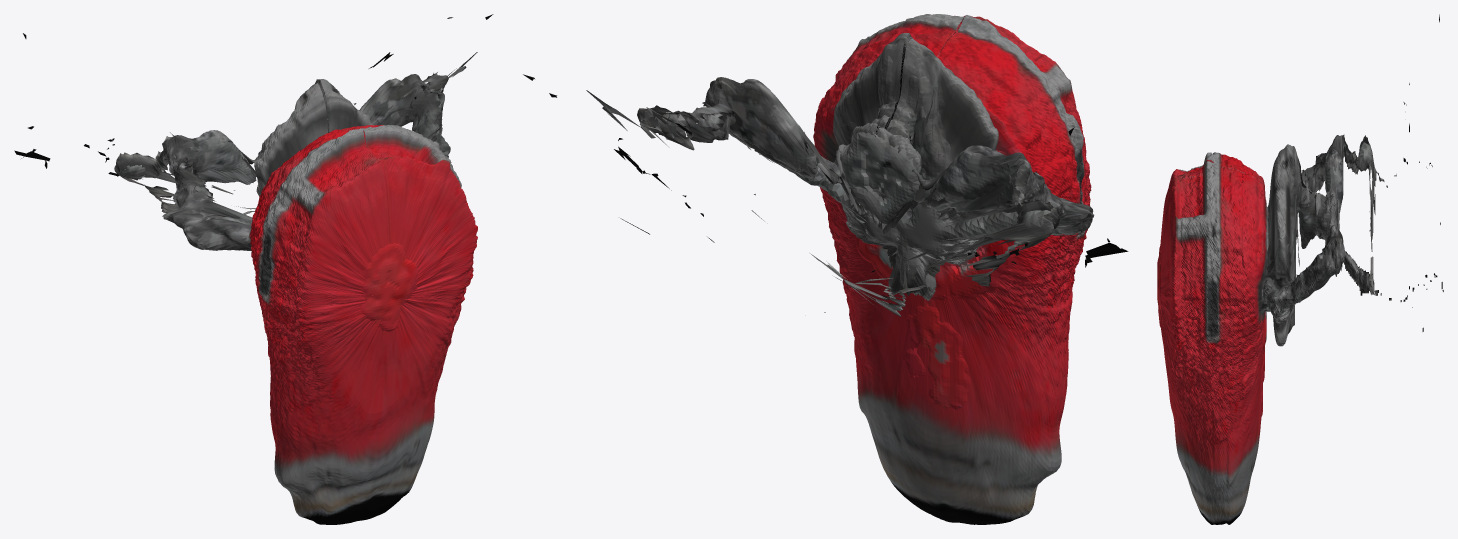
File: mesh_inpaint.glb
3 views of the same model, side by side, from view 1: azimuth 30°, elevation 25°; view 2: azimuth 150°, elevation 25°; view 3: azimuth 270°, elevation 25° (orthographic). The views are drawn at different scales.
Visible parts, largest first — view 1: ipn, fill; view 2: ipn, fill; view 3: ipn, fill.
Boxes of the visible parts, <box> form: ipn: <box>14,14,493,524</box>; fill: <box>120,77,445,331</box>; ipn: <box>523,14,1128,524</box>; fill: <box>652,55,1087,409</box>; ipn: <box>1159,14,1443,524</box>; fill: <box>1157,141,1372,416</box>.
Bounding box in the file's own units: 1.62 × 1.46 × 0.9216.
2 materials, 1 textured.
